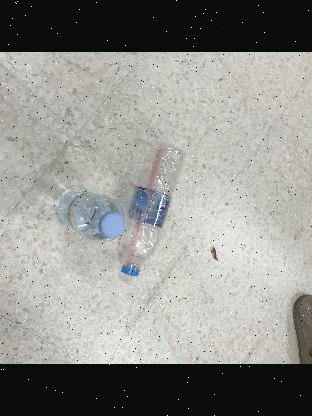Plastic Bottle: (118, 143, 184, 277), (50, 189, 118, 243)
